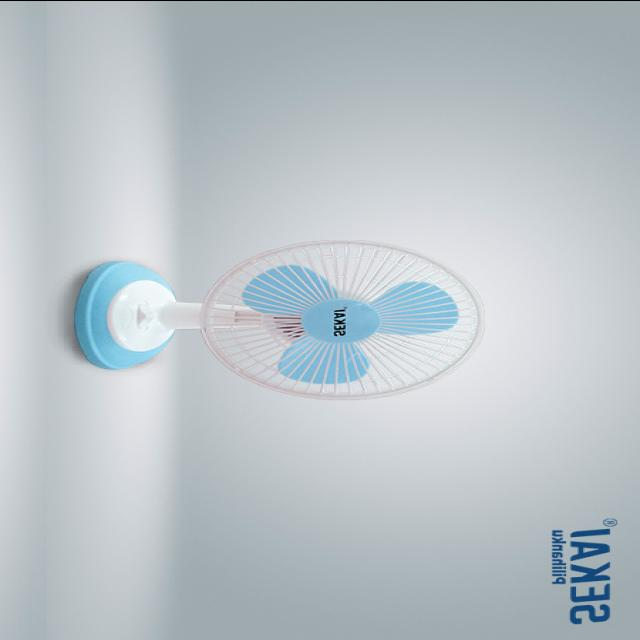fan: (64, 238, 488, 406)
